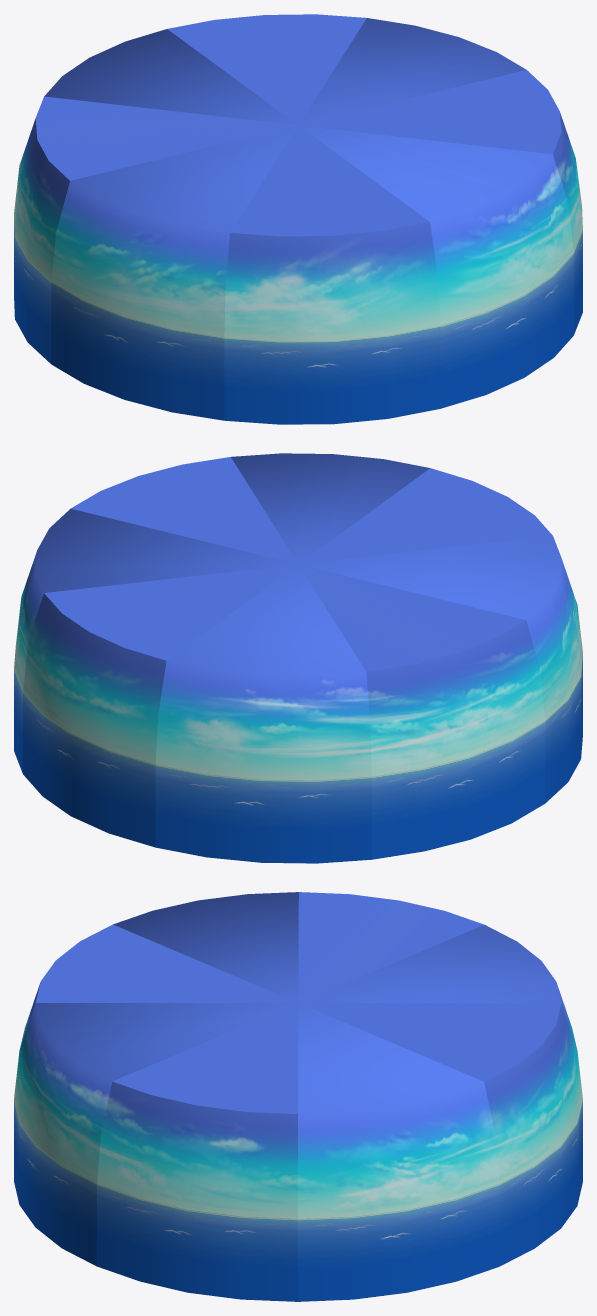
Rendered from forest_r02.glb.
3 views of the same model, one above another, from view 1: azimuth 30°, elevation 25°; view 2: azimuth 150°, elevation 25°; view 3: azimuth 270°, elevation 25° (orthographic).
Visible parts, largest first — view 1: Geo.604, Geo.605; view 2: Geo.604, Geo.605; view 3: Geo.604, Geo.605.
Boxes of the visible parts, left/top/right/bottom form: Geo.604: left=14, top=14, right=582, bottom=341; Geo.605: left=14, top=218, right=582, bottom=424; Geo.604: left=14, top=453, right=582, bottom=780; Geo.605: left=14, top=655, right=582, bottom=863; Geo.604: left=14, top=892, right=582, bottom=1218; Geo.605: left=14, top=1099, right=582, bottom=1301.
Bounding box in the file's own units: 592 × 205 × 592.
64 materials, 64 textured.
